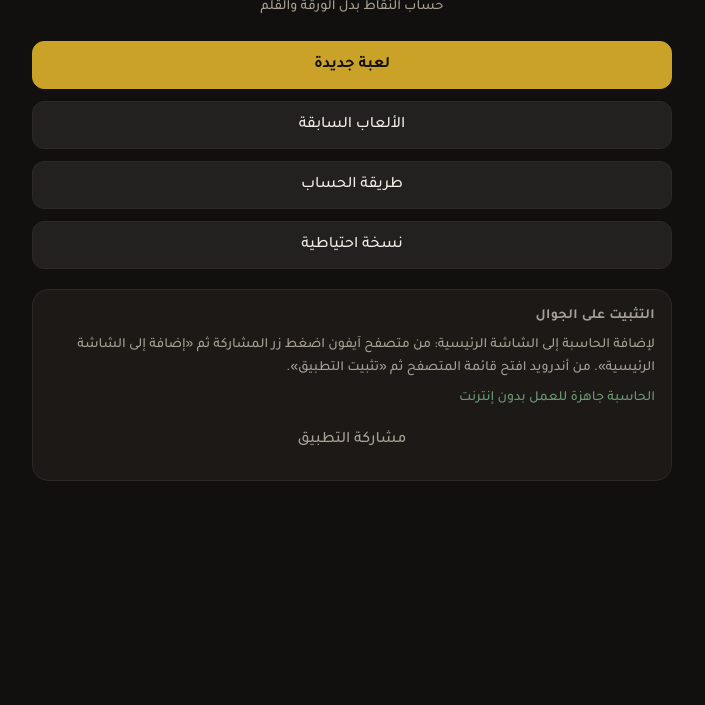
Test: starting a game › refuses a blank name
Click the button "لعبة جديدة" at x=352, y=65, box top-left (32, 41), bottom-right (672, 89)
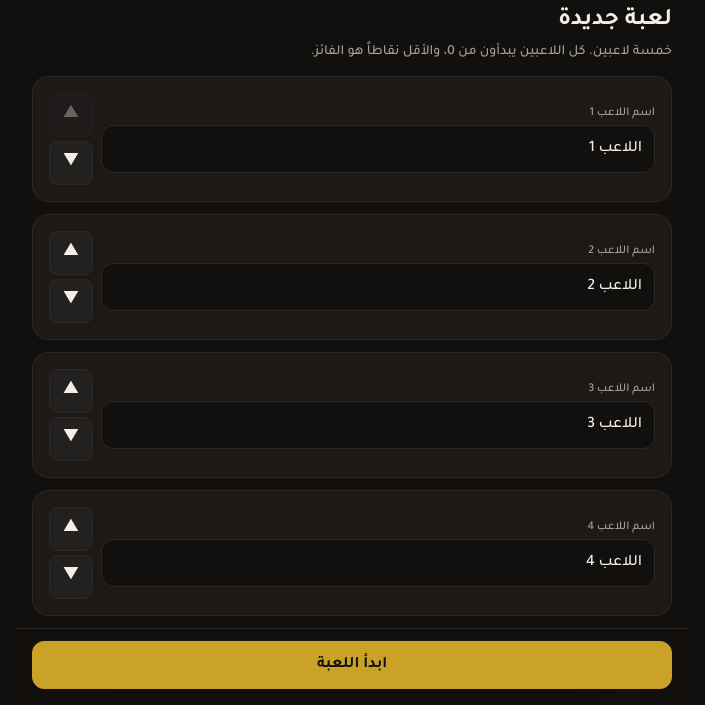
Clear the field labelled "اسم اللاعب 3" at x=378, y=425, box top-left (101, 401), bottom-right (655, 449)
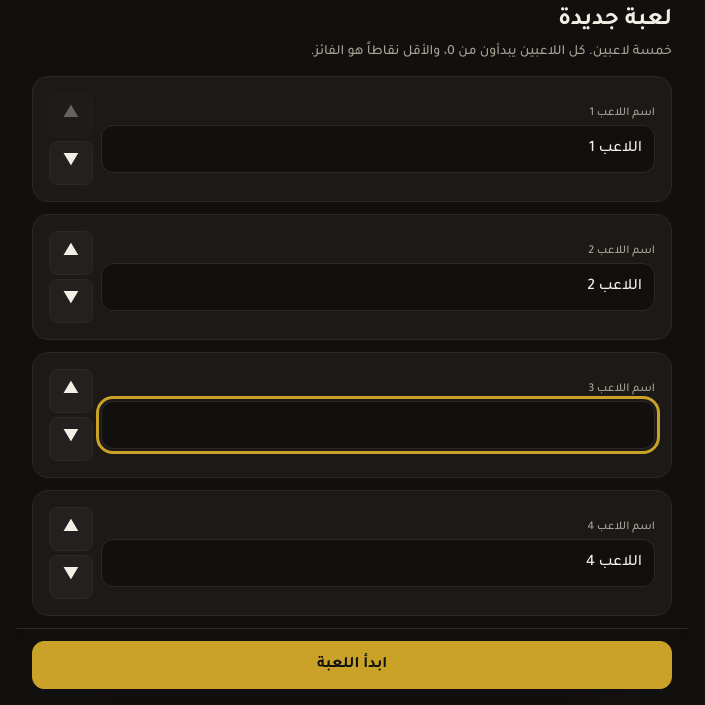
Click the button "ابدأ اللعبة" at x=352, y=665, box top-left (32, 641), bottom-right (672, 689)
(page scrolled)
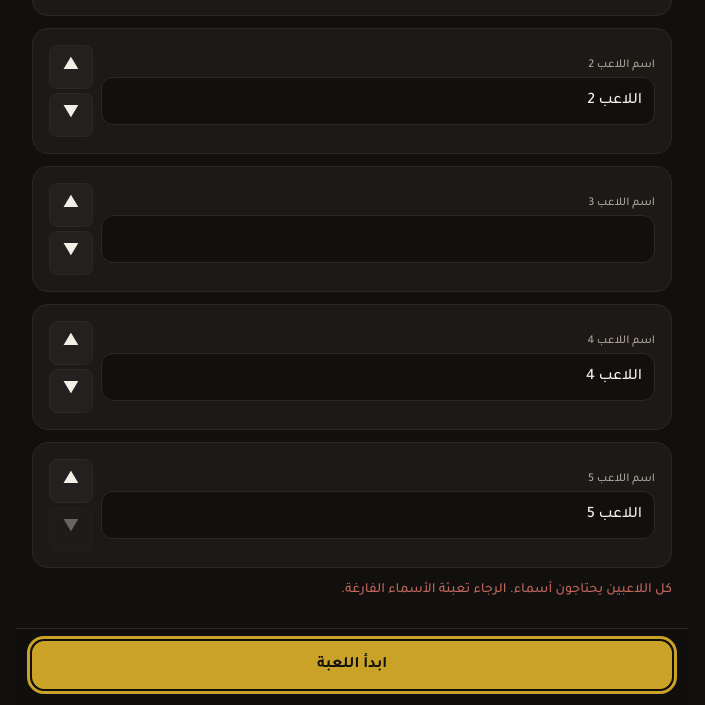
Check: the message "كل اللاعبين يحتاجون أسماء. الرجاء تعبئة الأسماء الفارغة." is shown, box top-left (341, 583), bottom-right (672, 597)
